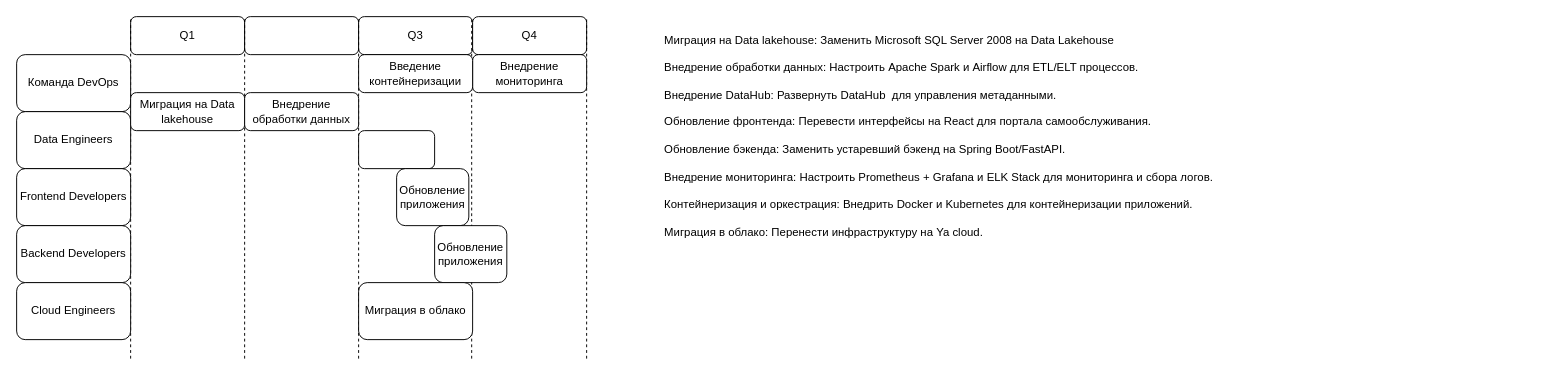
This 1563x376 diagram has some shape labels left out. The centre of each missing label's shape, as x and y in pixels:
Q2: [301,35]
Внедрение DataHub: [396,149]
